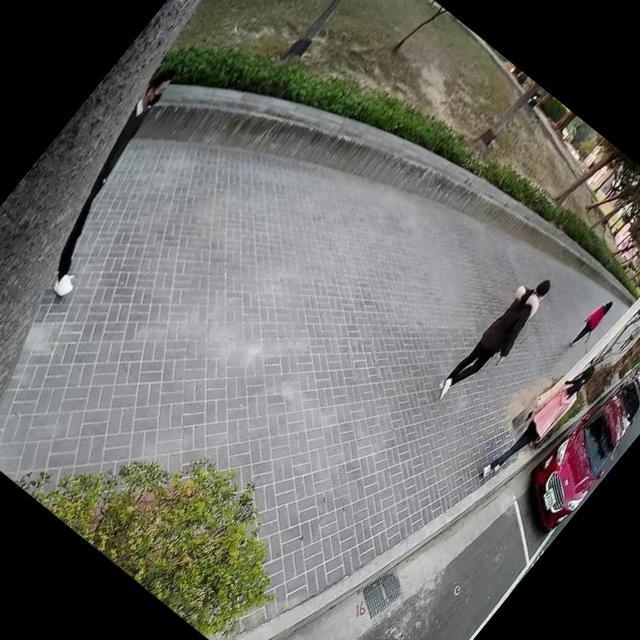person: (2, 55, 225, 306), (425, 260, 565, 419), (473, 346, 605, 498), (562, 290, 622, 356)
